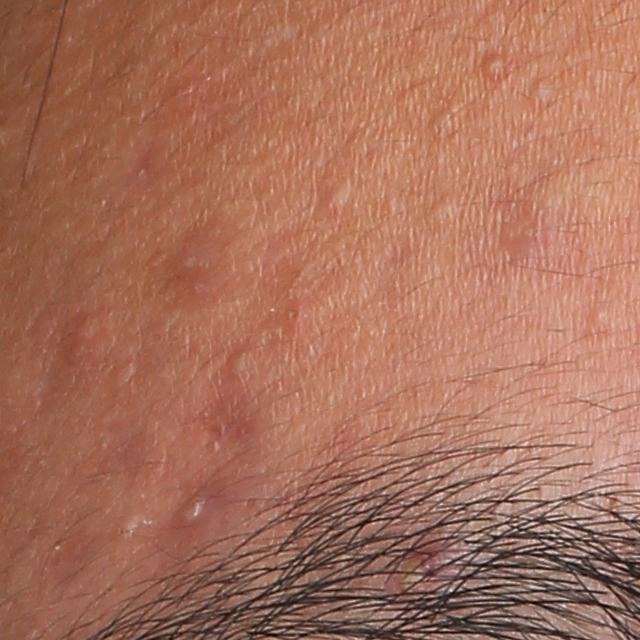comedo: (319, 179, 354, 218), (226, 348, 252, 381), (426, 196, 455, 225), (119, 505, 143, 538), (481, 51, 507, 79), (432, 108, 460, 133), (526, 76, 553, 101), (587, 304, 609, 328)
